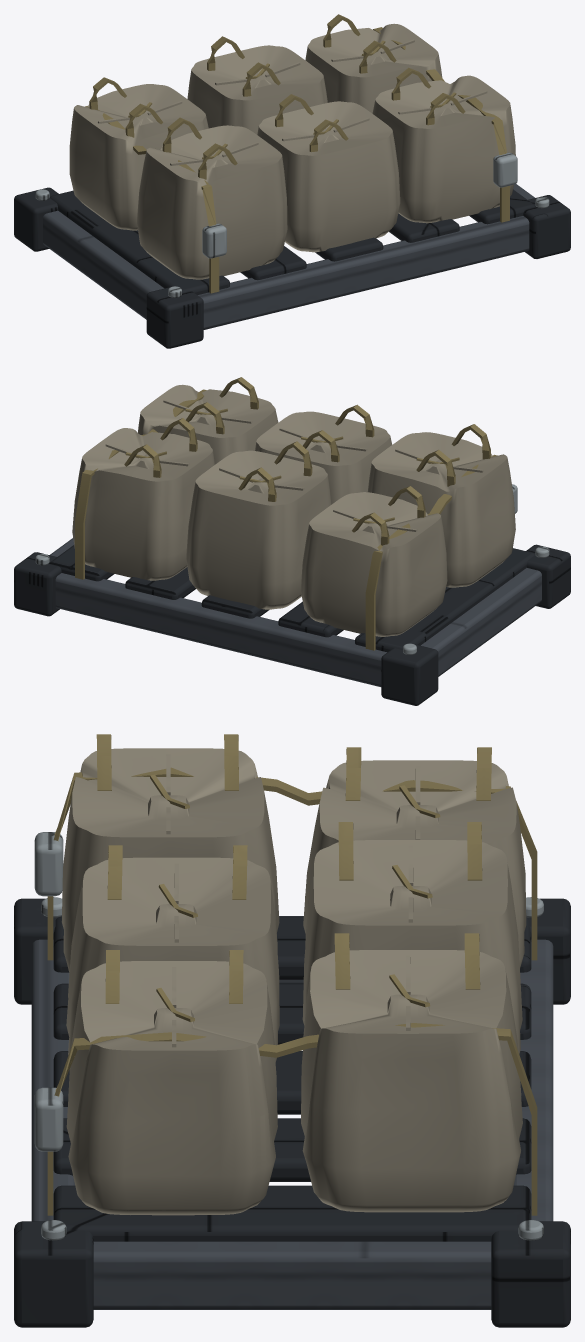
File: cargo-bagged-regolith-pallet_lod0.glb
The picture shows the model from 3 angles, top to bottom: view 1: azimuth 30°, elevation 25°; view 2: azimuth 150°, elevation 25°; view 3: azimuth 270°, elevation 25°; orthographic projection. The views are drawn at different scales.
Visible parts, largest first — view 1: LOD0_Ceramic, LOD0_Mechanical, LOD0_Armor, LOD0_Ceramic_webbing, LOD0_BrushedMetal; view 2: LOD0_Ceramic, LOD0_Mechanical, LOD0_Armor, LOD0_Ceramic_webbing, LOD0_BrushedMetal; view 3: LOD0_Ceramic, LOD0_Armor, LOD0_Mechanical, LOD0_Ceramic_webbing, LOD0_BrushedMetal.
Boxes of the visible parts, bbox=[...] form: LOD0_Ceramic: bbox=[69, 23, 515, 279]; LOD0_Mechanical: bbox=[43, 184, 534, 329]; LOD0_Armor: bbox=[14, 187, 570, 348]; LOD0_Ceramic_webbing: bbox=[85, 14, 509, 293]; LOD0_BrushedMetal: bbox=[35, 152, 549, 297]; LOD0_Ceramic: bbox=[72, 384, 515, 636]; LOD0_Mechanical: bbox=[50, 538, 541, 686]; LOD0_Armor: bbox=[14, 544, 570, 705]; LOD0_Ceramic_webbing: bbox=[75, 377, 497, 650]; LOD0_BrushedMetal: bbox=[35, 484, 549, 654]; LOD0_Ceramic: bbox=[61, 748, 526, 1215]; LOD0_Armor: bbox=[14, 898, 570, 1327]; LOD0_Mechanical: bbox=[31, 916, 553, 1309]; LOD0_Ceramic_webbing: bbox=[47, 734, 537, 1215]; LOD0_BrushedMetal: bbox=[34, 832, 543, 1240].
Bounding box in the file's own units: 2.65 × 1.09 × 1.75.
5 materials, 5 textured.
